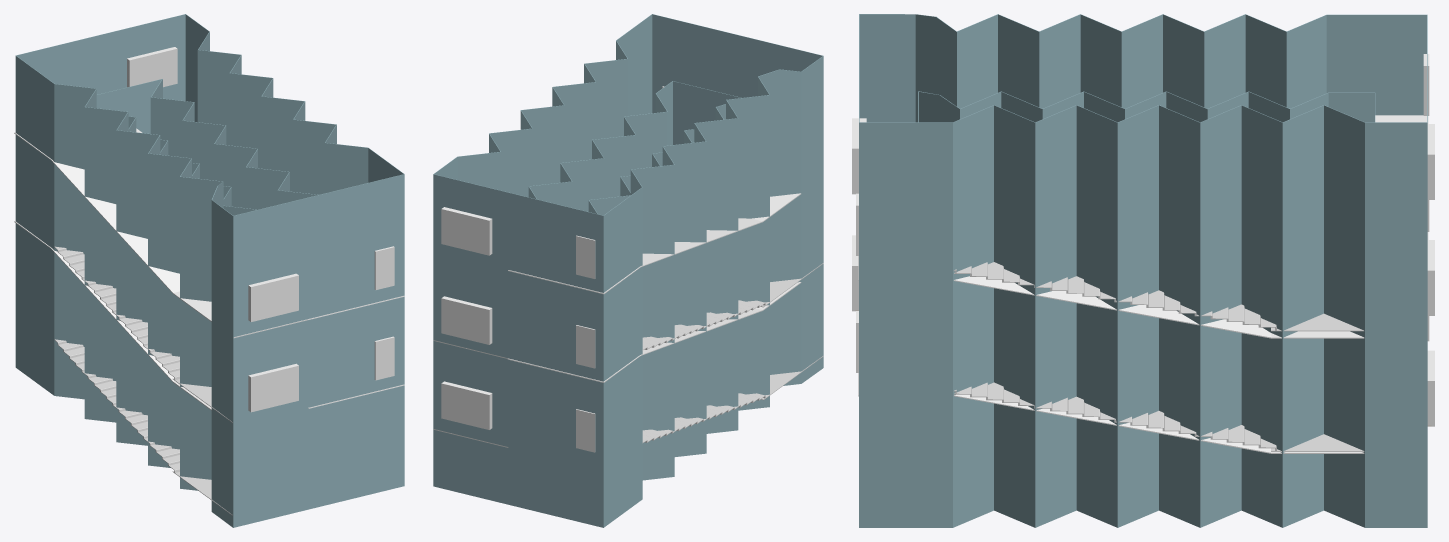
File: stairs.fbx
3 views of the same model, side by side, from view 1: azimuth 30°, elevation 25°; view 2: azimuth 150°, elevation 25°; view 3: azimuth 270°, elevation 25° (orthographic). The views are drawn at different scales.
Parts seen in each view (by area): view 1: big walls with mod.001, small walls with mod, 4S_Big window.001, 4Roof_Small W, CTRL_Hole.001, CTRL_Hole.006, CTRL_Hole.007, 1S_Small window, CTRL_Hole.005, 2Roof_Small W, CTRL_Hole.004; view 2: big walls with mod.001, small walls with mod, 4S_Big window.001, CTRL_Hole.007, CTRL_Hole.003, CTRL_Hole.010, 4Roof_Small W, 2Roof_Small W, CTRL_Hole.008, CTRL_Hole.009, CTRL_Hole.002; view 3: big walls with mod.001, small walls with mod, 4S_Big window, 3Roof_Big W, 4S_Big window.001, 2S_Big window, 1Roof_Big W.
Boxes of the visible parts, <box> form: big walls with mod.001: <box>15,14,404,527</box>; small walls with mod: <box>96,79,318,215</box>; 4S_Big window.001: <box>54,246,231,513</box>; 4Roof_Small W: <box>14,128,308,338</box>; CTRL_Hole.001: <box>248,363,298,412</box>; CTRL_Hole.006: <box>248,273,298,321</box>; CTRL_Hole.007: <box>127,47,177,87</box>; 1S_Small window: <box>54,339,232,515</box>; CTRL_Hole.005: <box>374,246,394,289</box>; 2Roof_Small W: <box>14,221,211,410</box>; CTRL_Hole.004: <box>374,336,394,380</box>; big walls with mod.001: <box>433,14,823,527</box>; small walls with mod: <box>528,81,741,215</box>; 4S_Big window.001: <box>642,263,822,442</box>; CTRL_Hole.007: <box>441,207,492,255</box>; CTRL_Hole.003: <box>441,296,492,344</box>; CTRL_Hole.010: <box>441,381,491,429</box>; 4Roof_Small W: <box>508,193,801,294</box>; 2Roof_Small W: <box>507,282,801,382</box>; CTRL_Hole.008: <box>576,235,595,278</box>; CTRL_Hole.009: <box>576,409,595,452</box>; CTRL_Hole.002: <box>576,325,595,368</box>; big walls with mod.001: <box>859,14,1427,527</box>; small walls with mod: <box>918,91,1375,122</box>; 4S_Big window: <box>953,262,1363,331</box>; 3Roof_Big W: <box>858,256,1364,338</box>; 4S_Big window.001: <box>971,382,1363,451</box>; 2S_Big window: <box>953,385,1364,451</box>; 1Roof_Big W: <box>858,373,1364,453</box>.
Size of the model in its own units: 893 by 1574 by 2021.
